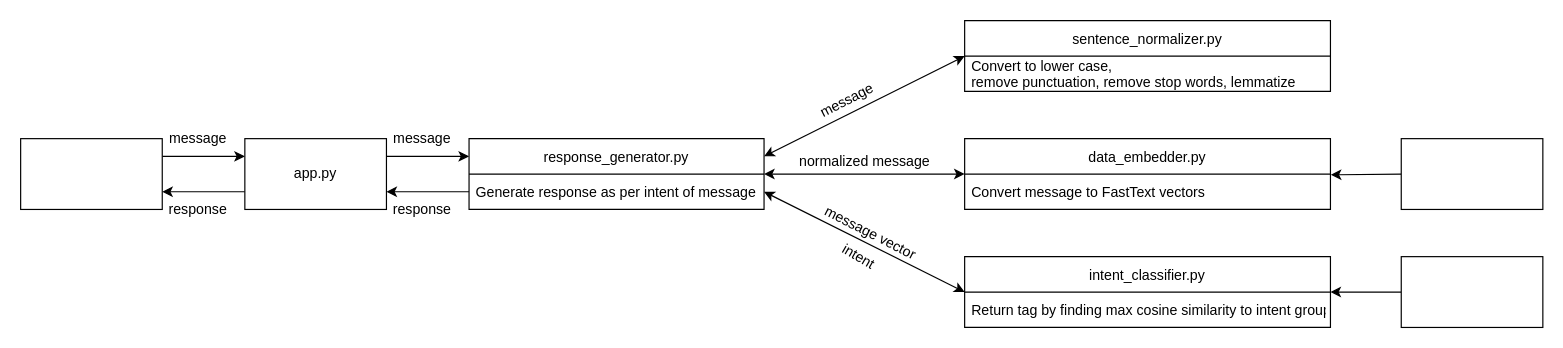
This 1563x348 diagram has some shape labels left out. The centre of each missing label's shape, as x and y in pixels:
Embedded dataset.json: (1471,291)
FastText Pretrained English model: (1471,173)
Front end: (90,173)
